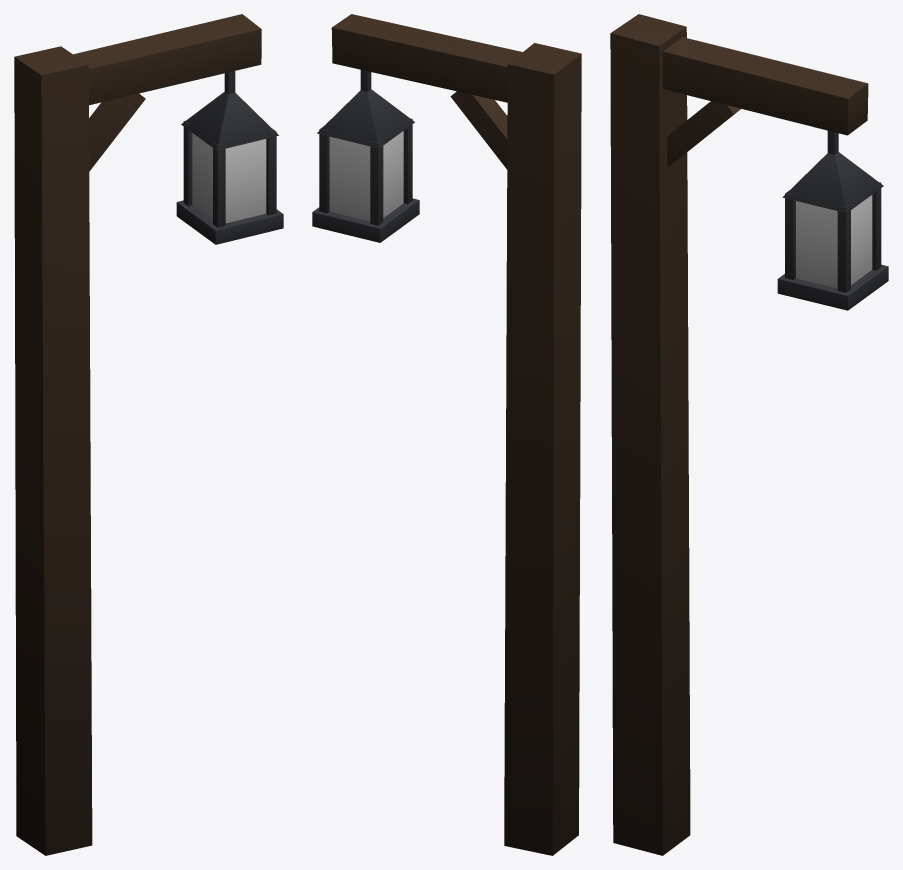
File: ph_prop_lantern_post.glb
3 views of the same model, side by side, from view 1: azimuth 30°, elevation 25°; view 2: azimuth 150°, elevation 25°; view 3: azimuth 330°, elevation 25° (orthographic). The views are drawn at different scales.
Parts seen in each view (by area): view 1: ph_prop_lantern_post; view 2: ph_prop_lantern_post; view 3: ph_prop_lantern_post.
Boxes of the visible parts, x1=… form: ph_prop_lantern_post: x1=14, y1=14, x2=283, y2=855; ph_prop_lantern_post: x1=312, y1=14, x2=581, y2=855; ph_prop_lantern_post: x1=610, y1=14, x2=888, y2=855.
Size of the model in its own units: 0.6954 by 2.2 by 0.2.
